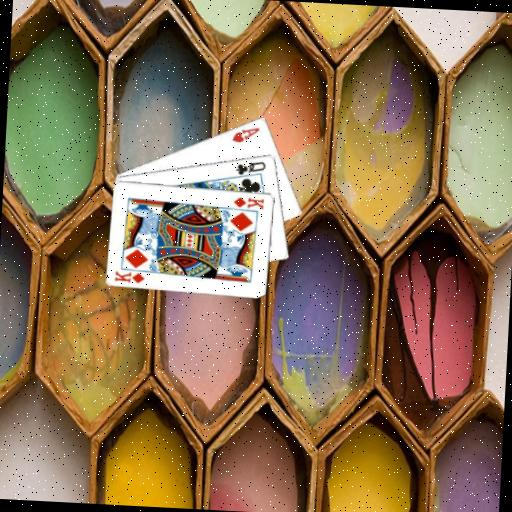AH: (229, 123, 262, 145)
KD: (230, 194, 266, 211), (112, 268, 147, 285)
QC: (233, 157, 268, 178)
